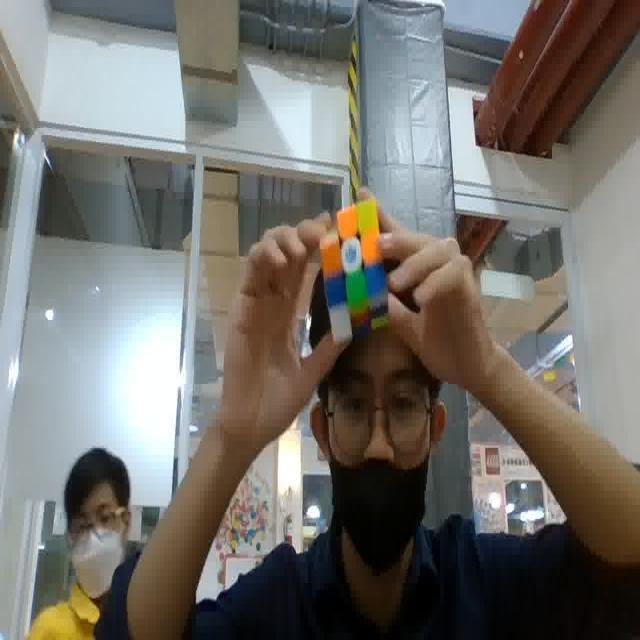Rub: (312, 200, 393, 346)
